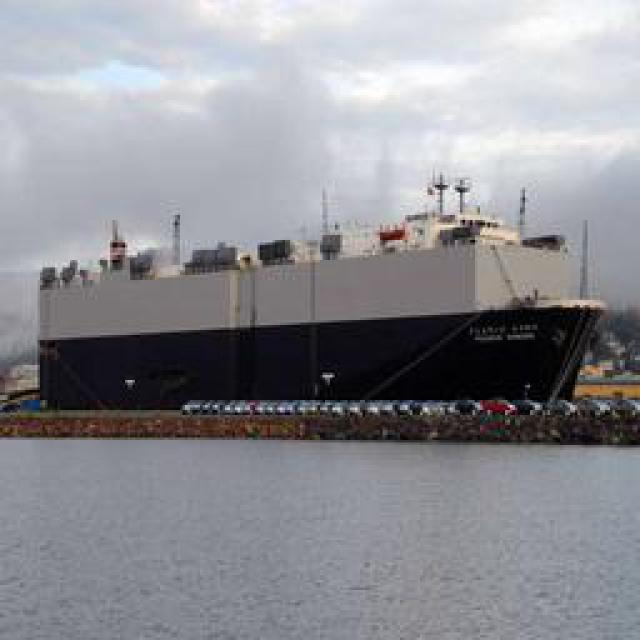Ship: (25, 167, 618, 417)
